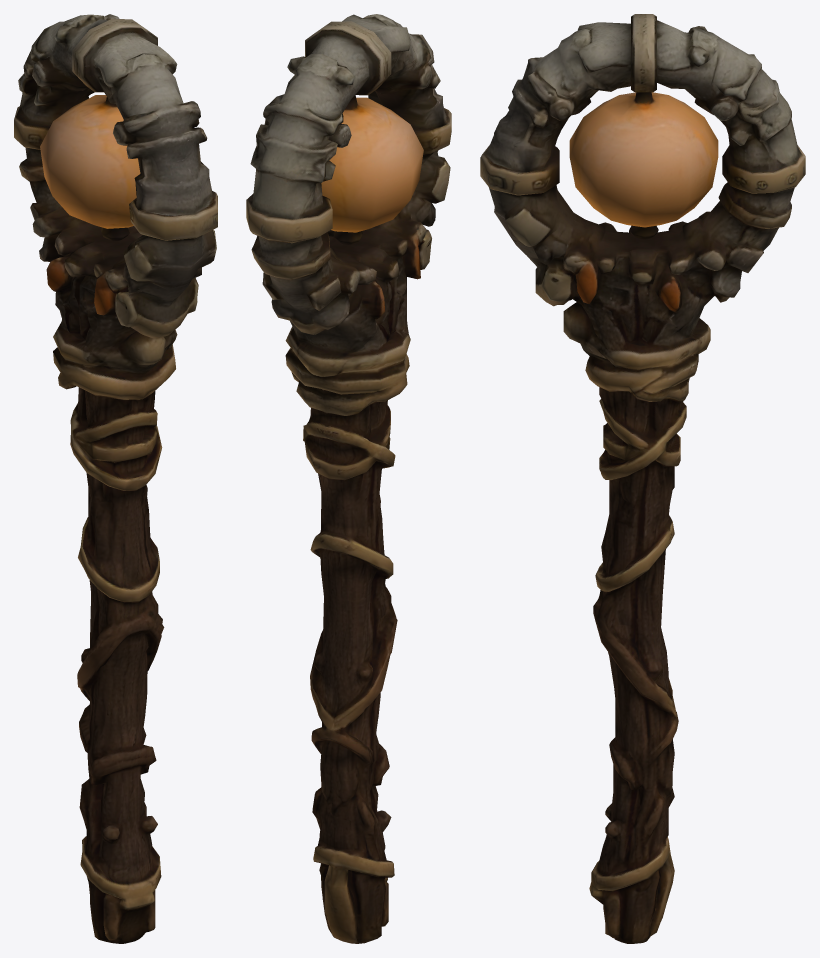
The picture shows the model from 3 angles, left to right: view 1: azimuth 30°, elevation 25°; view 2: azimuth 150°, elevation 25°; view 3: azimuth 270°, elevation 25°; orthographic projection.
Visible parts, largest first — view 1: tripo_node_f6b2bd01-24a0-48c8-b649-a5038d909861; view 2: tripo_node_f6b2bd01-24a0-48c8-b649-a5038d909861; view 3: tripo_node_f6b2bd01-24a0-48c8-b649-a5038d909861.
Boxes of the visible parts, box(x1,y1,x2,y2) form: tripo_node_f6b2bd01-24a0-48c8-b649-a5038d909861: box(14, 14, 217, 943); tripo_node_f6b2bd01-24a0-48c8-b649-a5038d909861: box(246, 14, 451, 943); tripo_node_f6b2bd01-24a0-48c8-b649-a5038d909861: box(480, 14, 805, 943).
Bounding box in the file's own units: 0.1507 × 0.998 × 0.3209.
Materials: 1 (1 with a texture image).
